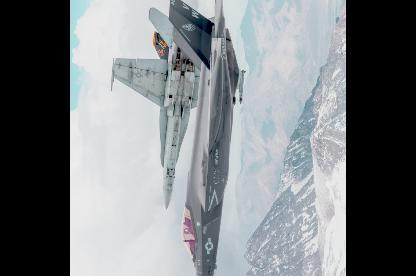F15: (110, 6, 245, 208)
F22: (168, 0, 239, 275)
